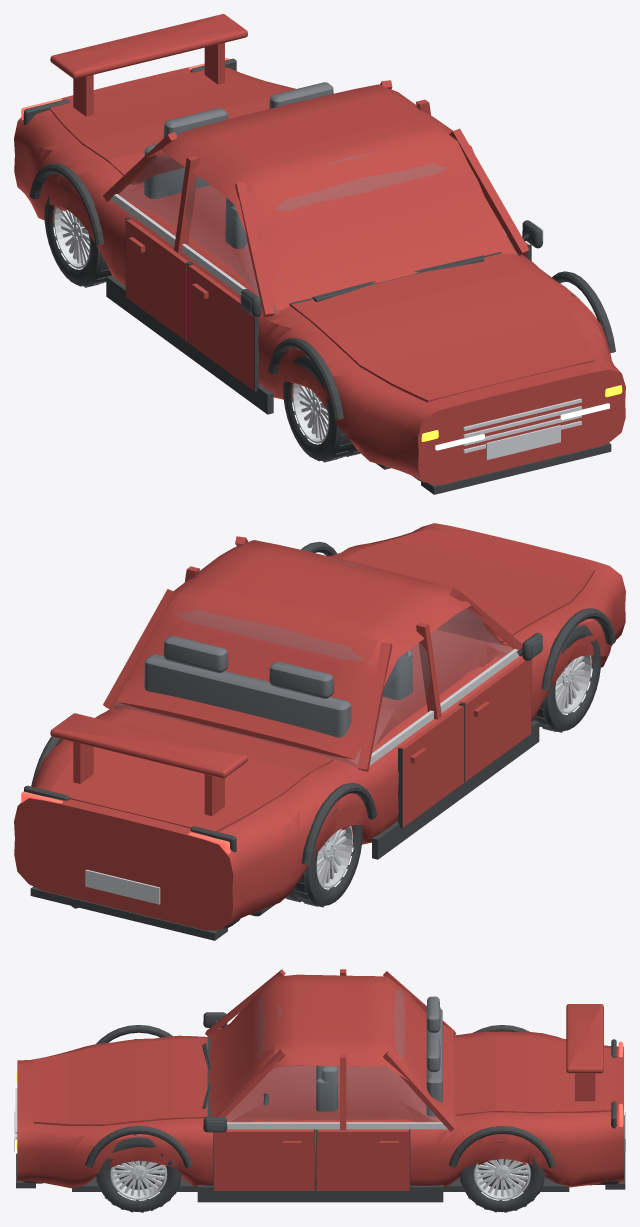
File: type_fastback.glb
The picture shows the model from 3 angles, top to bottom: view 1: azimuth 30°, elevation 25°; view 2: azimuth 150°, elevation 25°; view 3: azimuth 270°, elevation 25°; orthographic projection. The views are drawn at different scales.
Visible parts, largest first — view 1: sports-saloon, bonnet, boot, door-front-left, door-rear-left, wheel-front-left/trim, wheel-rear-left/trim, wheel-rear-left/alloy, wheel-front-left/alloy; view 2: sports-saloon, boot, bonnet, door-front-left, door-rear-left, wheel-front-left/trim, wheel-rear-left/trim, wheel-rear-left/alloy, wheel-front-left/alloy; view 3: sports-saloon, bonnet, boot, door-front-right, door-rear-right, wheel-front-right/trim, wheel-rear-right/trim, wheel-rear-right/alloy, wheel-front-right/alloy.
Part boxes in pixels (box(x1,y1,x2,y2)): sports-saloon: box(14, 14, 625, 494); bonnet: box(291, 253, 594, 402); boot: box(49, 70, 279, 185); door-front-left: box(188, 265, 254, 390); door-rear-left: box(126, 219, 188, 341); wheel-front-left/trim: box(283, 355, 360, 462); wheel-rear-left/trim: box(44, 187, 111, 287); wheel-rear-left/alloy: box(54, 206, 90, 268); wheel-front-left/alloy: box(292, 383, 328, 443); sports-saloon: box(14, 523, 625, 940); boot: box(50, 710, 333, 831); bonnet: box(342, 529, 594, 642); door-front-left: box(463, 658, 531, 781); door-rear-left: box(401, 705, 463, 827); wheel-front-left/trim: box(533, 625, 601, 732); wheel-rear-left/trim: box(285, 809, 362, 907); wheel-rear-left/alloy: box(316, 826, 352, 888); wheel-front-left/alloy: box(555, 655, 591, 713); sports-saloon: box(14, 969, 625, 1202); bonnet: box(33, 1038, 207, 1125); boot: box(456, 1036, 612, 1115); door-front-right: box(214, 1130, 314, 1190); door-rear-right: box(316, 1130, 409, 1190); wheel-front-right/trim: box(96, 1134, 181, 1212); wheel-rear-right/trim: box(459, 1142, 545, 1212); wheel-rear-right/alloy: box(474, 1159, 530, 1199); wheel-front-right/alloy: box(110, 1160, 166, 1199).
Size of the model in its own units: 2.06 by 1.39 by 4.88.
